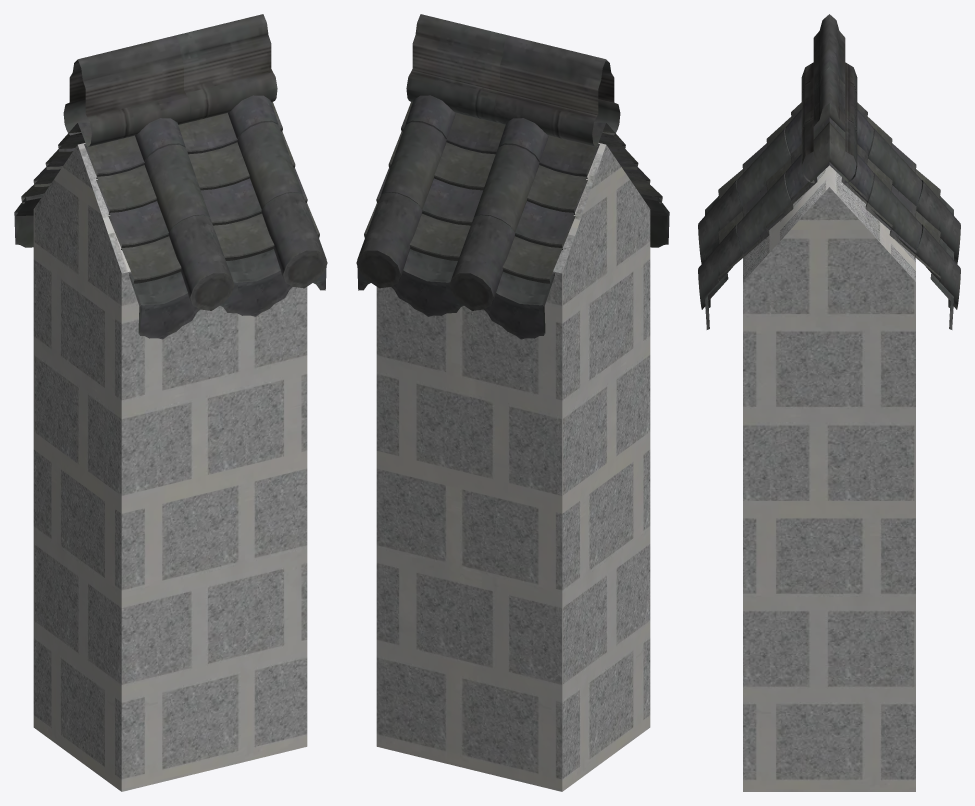
Rendered from wall-pillar.glb.
The picture shows the model from 3 angles, left to right: view 1: azimuth 30°, elevation 25°; view 2: azimuth 150°, elevation 25°; view 3: azimuth 270°, elevation 25°; orthographic projection.
Visible parts, largest first — view 1: Object074_Material #925_0, Object074_15 - Default_0; view 2: Object074_Material #925_0, Object074_15 - Default_0; view 3: Object074_Material #925_0, Object074_15 - Default_0.
Part boxes in pixels (box(x1,y1,x2,y2)): Object074_Material #925_0: box(33, 143, 307, 791); Object074_15 - Default_0: box(14, 14, 327, 339); Object074_Material #925_0: box(376, 143, 650, 791); Object074_15 - Default_0: box(356, 14, 669, 339); Object074_Material #925_0: box(743, 165, 915, 791); Object074_15 - Default_0: box(698, 14, 960, 329).
Bounding box in the file's own units: 0.75 × 2.7 × 0.9353.
Materials: 2 (2 with a texture image).
